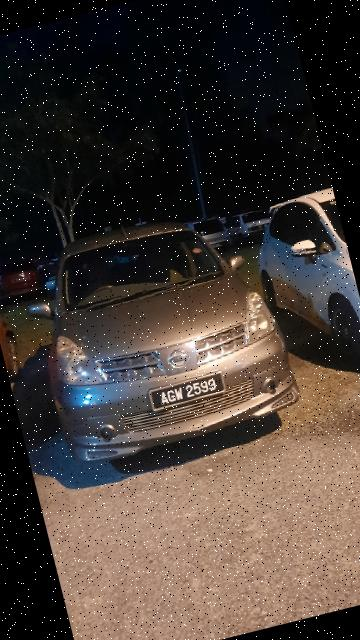License_Plate: (144, 371, 228, 413)
car: (10, 201, 309, 476)
